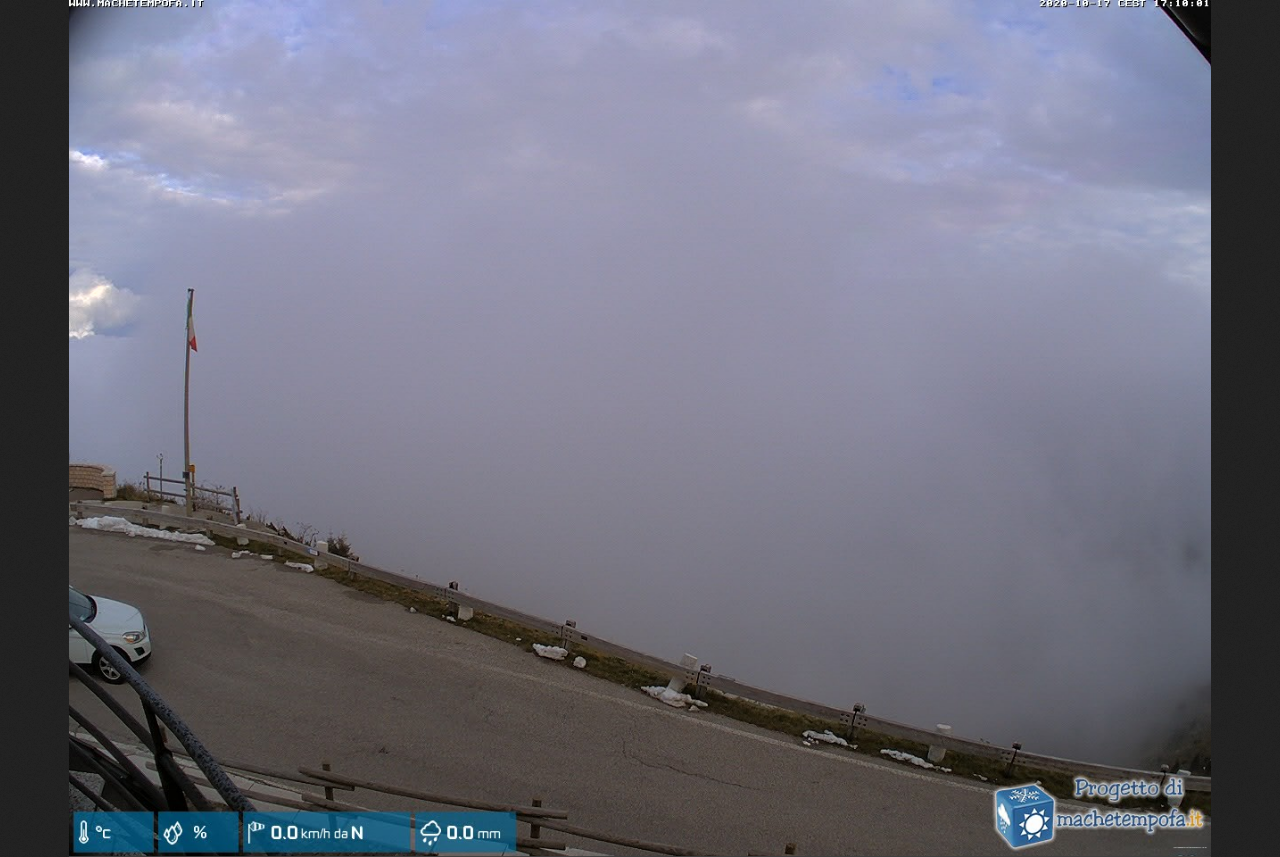no: (182, 288, 202, 355)
